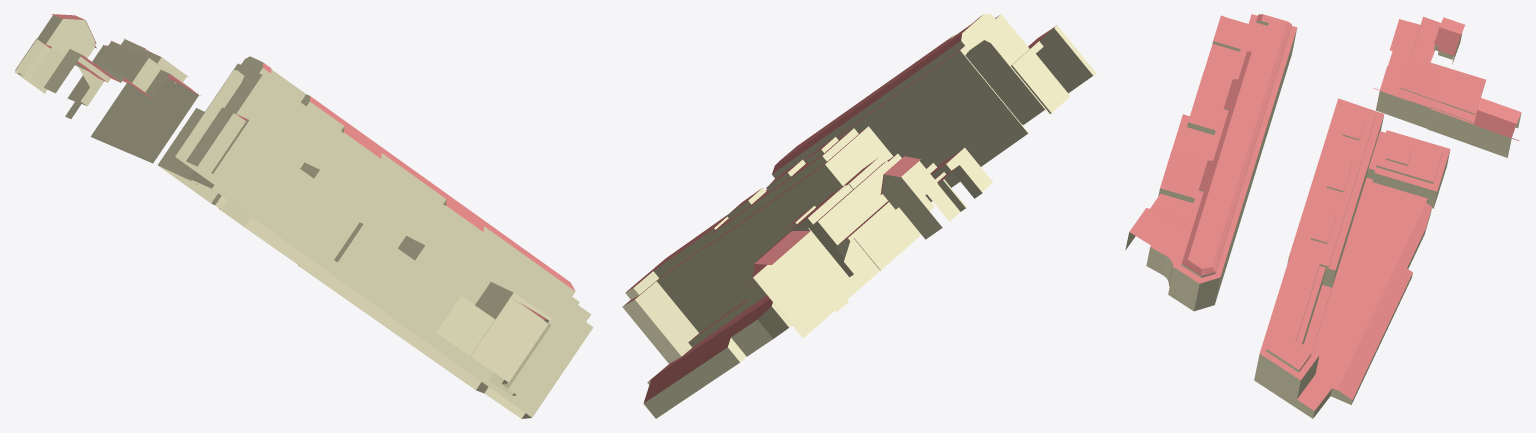
The model's file is tile_093.glb.
The picture shows the model from 3 angles, left to right: view 1: azimuth 30°, elevation 25°; view 2: azimuth 150°, elevation 25°; view 3: azimuth 270°, elevation 25°; orthographic projection. The views are drawn at different scales.
Visible parts, largest first — view 1: Batched_Building_ID_F8A7AC38-9FA2-4B63-AB8C-1A4CC3A17618; view 2: Batched_Building_ID_F8A7AC38-9FA2-4B63-AB8C-1A4CC3A17618; view 3: Batched_Building_ID_F8A7AC38-9FA2-4B63-AB8C-1A4CC3A17618.
Part boxes in pixels (bbox=[...]): Batched_Building_ID_F8A7AC38-9FA2-4B63-AB8C-1A4CC3A17618: bbox=[14, 14, 593, 418]; Batched_Building_ID_F8A7AC38-9FA2-4B63-AB8C-1A4CC3A17618: bbox=[622, 14, 1096, 418]; Batched_Building_ID_F8A7AC38-9FA2-4B63-AB8C-1A4CC3A17618: bbox=[1125, 14, 1521, 418].
Size of the model in its own units: 149 by 139 by 162.
